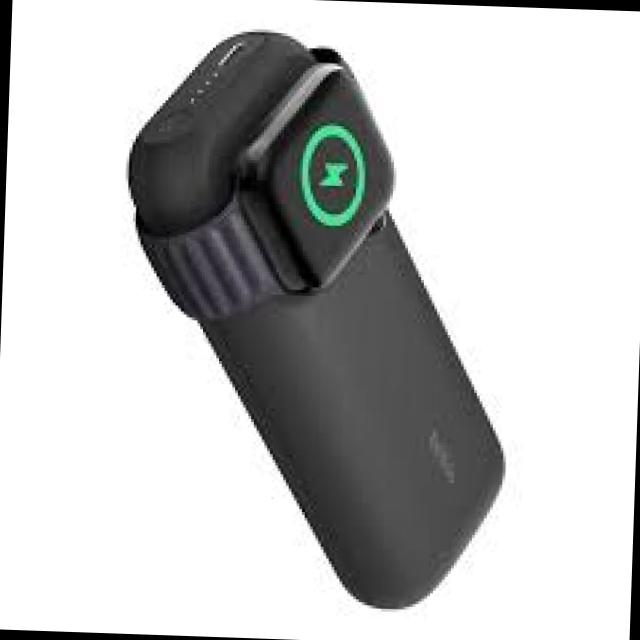power_bank: (108, 26, 524, 614)
